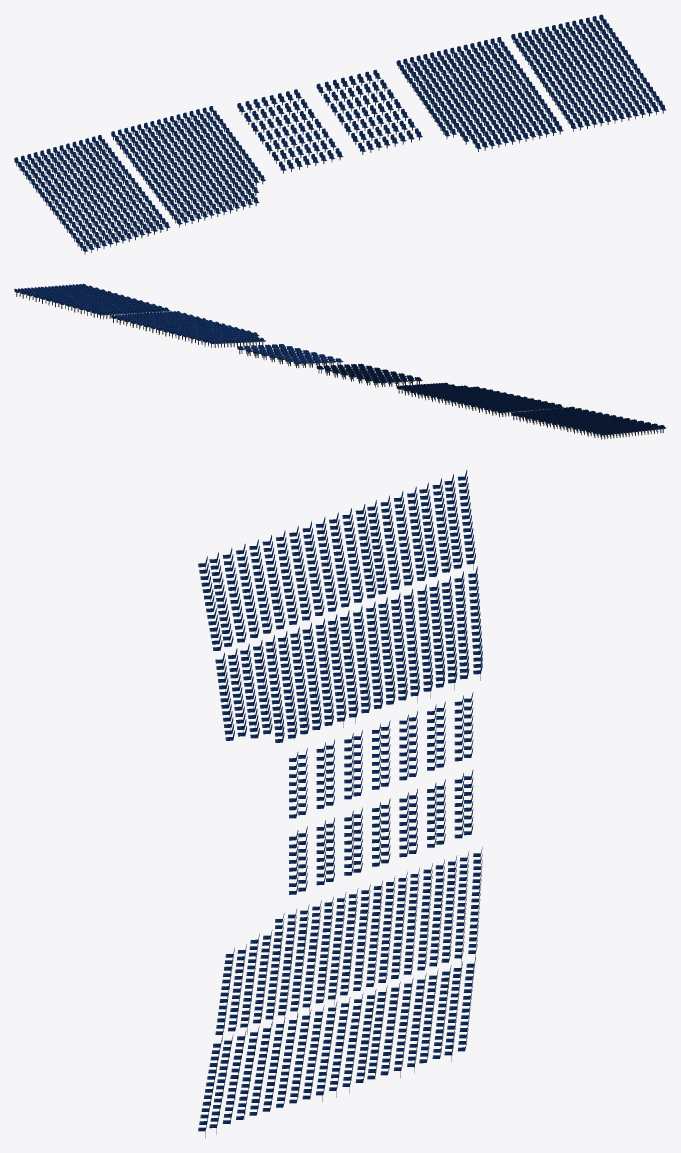
The model's file is sillas_banquillo_LOD1.FBX.
The picture shows the model from 3 angles, top to bottom: view 1: azimuth 30°, elevation 25°; view 2: azimuth 150°, elevation 25°; view 3: azimuth 270°, elevation 25°; orthographic projection. The views are drawn at different scales.
Parts seen in each view (by area): view 1: Silla_LOD1_05, Silla_LOD1_02, Silla_LOD1_03, Silla_LOD1_06, Silla_LOD1_04, Silla_LOD1_01; view 2: Silla_LOD1_05, Silla_LOD1_06, Silla_LOD1_02, Silla_LOD1_03, Silla_LOD1_01, Silla_LOD1_04; view 3: Silla_LOD1_02, Silla_LOD1_03, Silla_LOD1_05, Silla_LOD1_06, Silla_LOD1_04, Silla_LOD1_01.
Boxes of the visible parts, left/top/right/bottom form: Silla_LOD1_05: left=396, top=37, right=563, bottom=151; Silla_LOD1_02: left=111, top=106, right=265, bottom=227; Silla_LOD1_03: left=14, top=135, right=170, bottom=254; Silla_LOD1_06: left=511, top=14, right=666, bottom=131; Silla_LOD1_04: left=316, top=69, right=422, bottom=154; Silla_LOD1_01: left=237, top=89, right=343, bottom=173; Silla_LOD1_05: left=111, top=311, right=265, bottom=347; Silla_LOD1_06: left=14, top=283, right=170, bottom=319; Silla_LOD1_02: left=396, top=382, right=563, bottom=417; Silla_LOD1_03: left=511, top=406, right=666, bottom=439; Silla_LOD1_01: left=316, top=363, right=422, bottom=387; Silla_LOD1_04: left=237, top=344, right=343, bottom=368; Silla_LOD1_02: left=215, top=566, right=482, bottom=742; Silla_LOD1_03: left=198, top=470, right=475, bottom=650; Silla_LOD1_05: left=215, top=847, right=482, bottom=1041; Silla_LOD1_06: left=198, top=957, right=475, bottom=1137; Silla_LOD1_04: left=289, top=769, right=473, bottom=894; Silla_LOD1_01: left=289, top=692, right=473, bottom=818.
Bounding box in the file's own units: 8007 × 653 × 1677.
